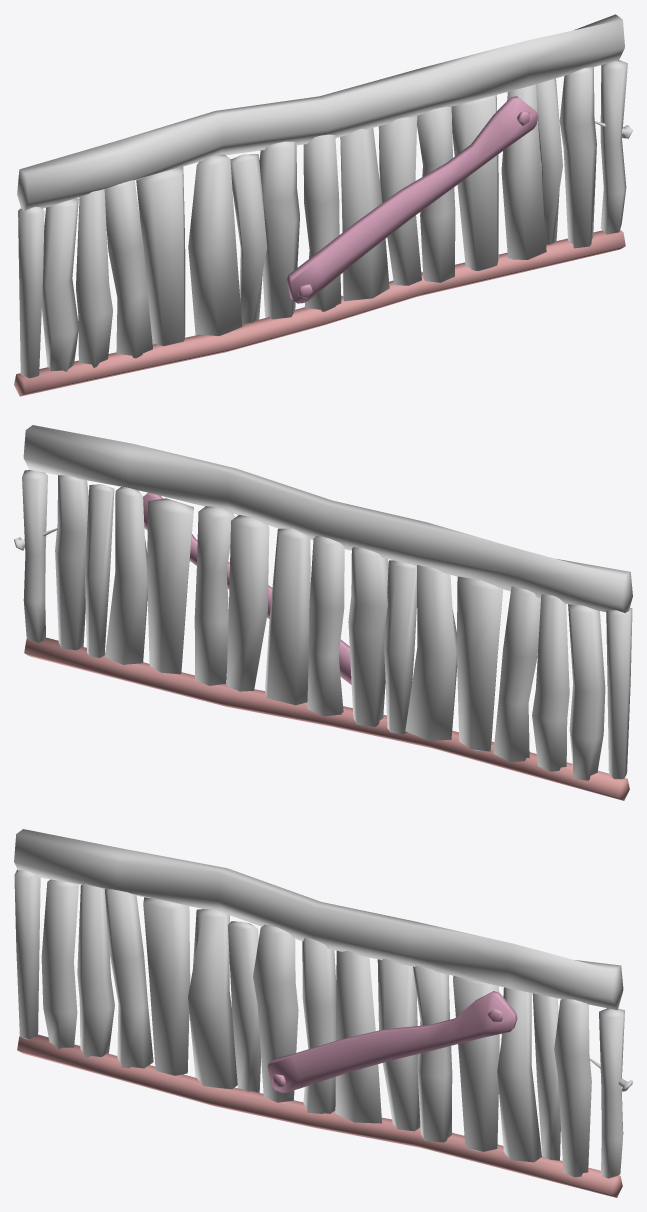
File: PBW_W1_HalfWallS.glb
3 renders of one model, top to bottom at view 1: azimuth 30°, elevation 25°; view 2: azimuth 150°, elevation 25°; view 3: azimuth 330°, elevation 25°, orthographic.
Visible parts, largest first — view 1: PBW_W1_HalfWallS; view 2: PBW_W1_HalfWallS; view 3: PBW_W1_HalfWallS.
Part boxes in pixels (x1=…): PBW_W1_HalfWallS: x1=14, y1=14, x2=632, y2=396; PBW_W1_HalfWallS: x1=14, y1=425, x2=632, y2=800; PBW_W1_HalfWallS: x1=14, y1=829, x2=632, y2=1197.
Bounding box in the file's own units: 5.25 × 1.92 × 0.3533.
